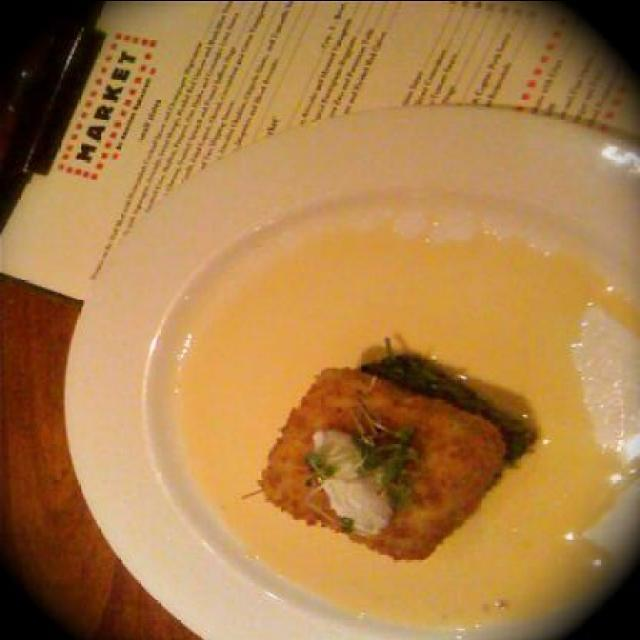Risotto: (248, 336, 532, 562)
